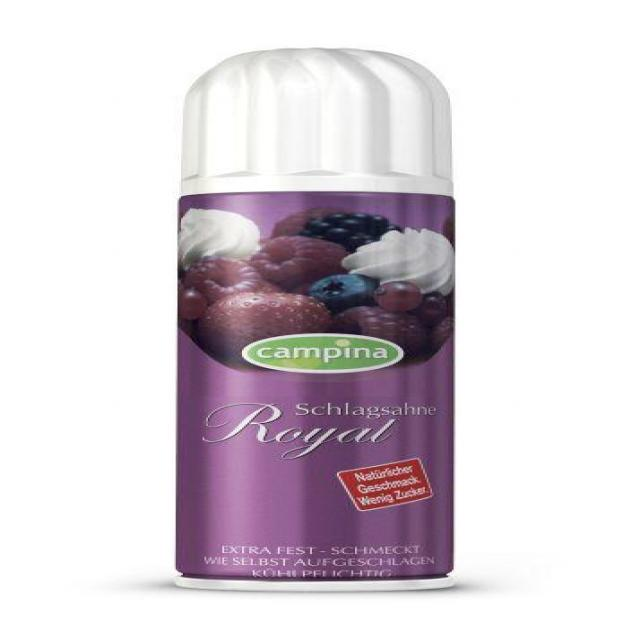Cream: (176, 49, 452, 591)
